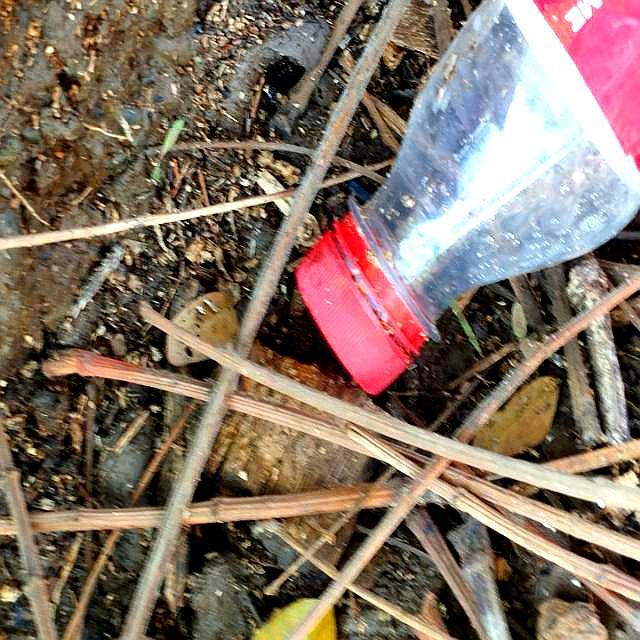Non-biodegradable: (279, 1, 640, 409)
